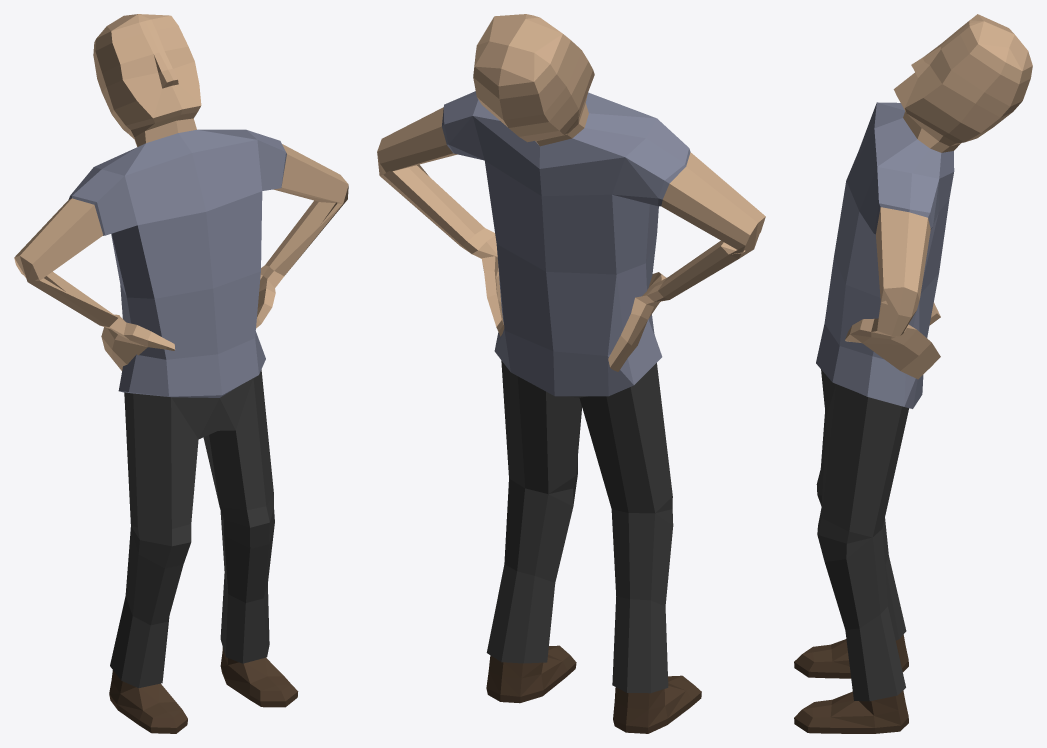
The model's file is crowd_eclair_male_lookingup.d6539407.glb.
3 views of the same model, side by side, from view 1: azimuth 30°, elevation 25°; view 2: azimuth 150°, elevation 25°; view 3: azimuth 270°, elevation 25° (orthographic). The views are drawn at different scales.
Visible parts, largest first — view 1: Shirt, Pants, Skin, Shoes; view 2: Shirt, Pants, Skin, Shoes; view 3: Skin, Pants, Shirt, Shoes.
Boxes of the visible parts, <box> form: Shirt: <box>68,129,286,397</box>; Pants: <box>110,369,274,688</box>; Skin: <box>14,14,348,370</box>; Shoes: <box>109,647,298,733</box>; Shirt: <box>442,91,690,396</box>; Pants: <box>486,360,673,693</box>; Skin: <box>377,14,765,371</box>; Shoes: <box>486,645,701,733</box>; Skin: <box>845,14,1032,379</box>; Pants: <box>816,369,908,701</box>; Shirt: <box>816,102,954,408</box>; Shoes: <box>794,635,908,733</box>.
Bounding box in the file's own units: 1.99 × 3.69 × 1.18.
